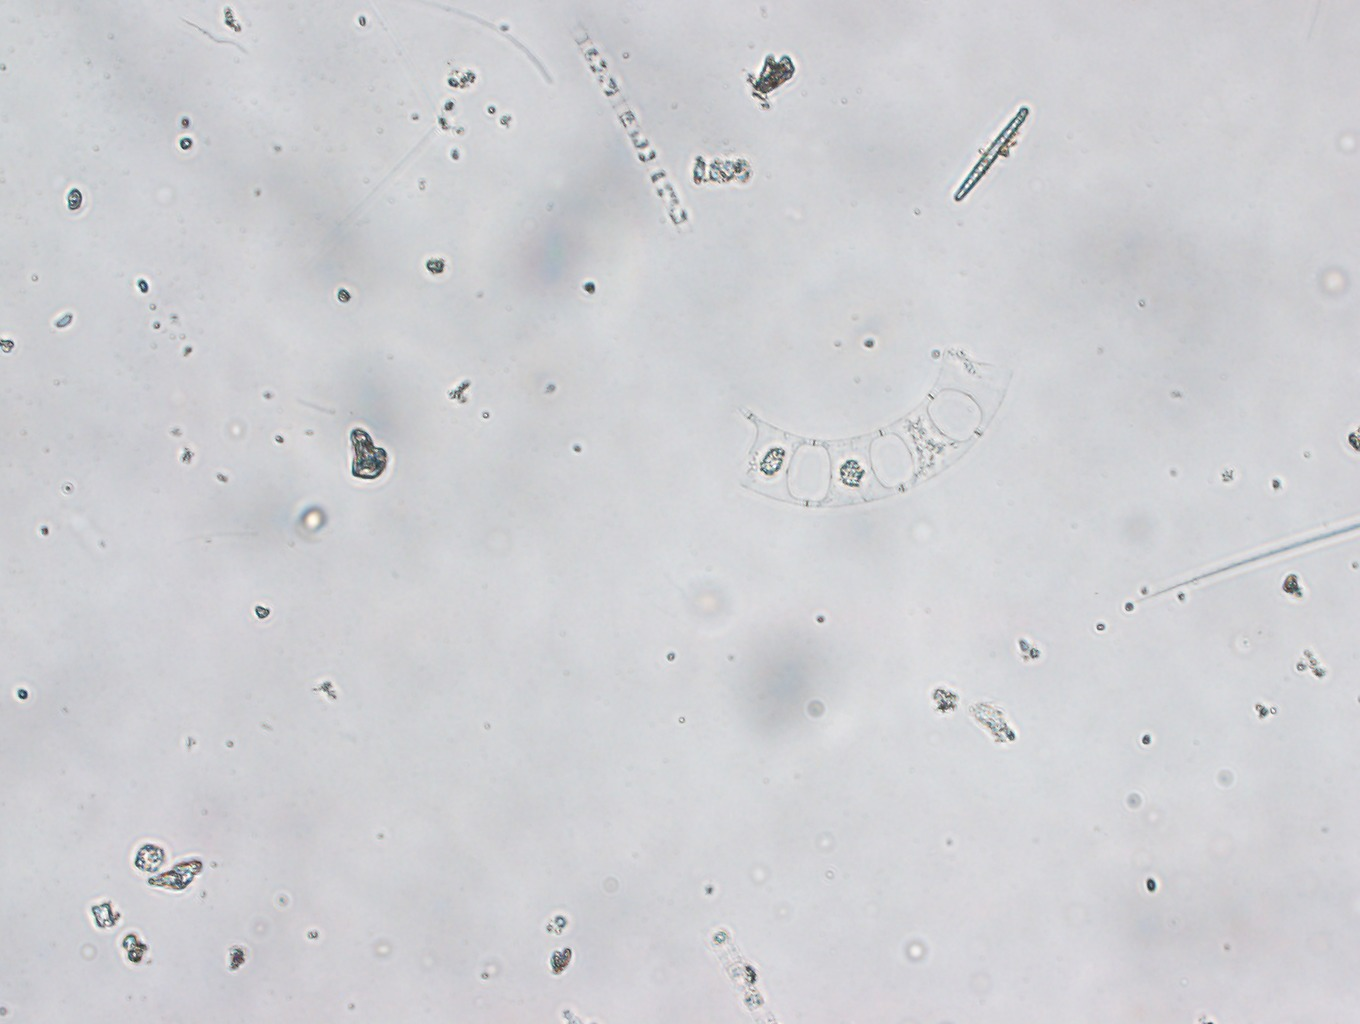eucampia: (731, 352, 1010, 509)
skeletonema: (573, 25, 691, 232)
